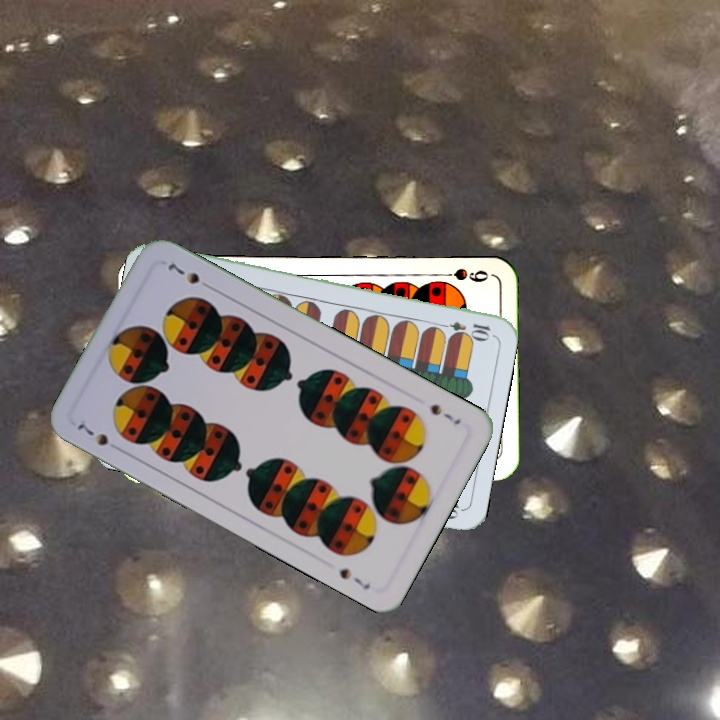E10: (434, 317, 493, 340)
S7: (73, 415, 125, 455), (426, 399, 463, 428)
S9: (433, 264, 491, 285)
